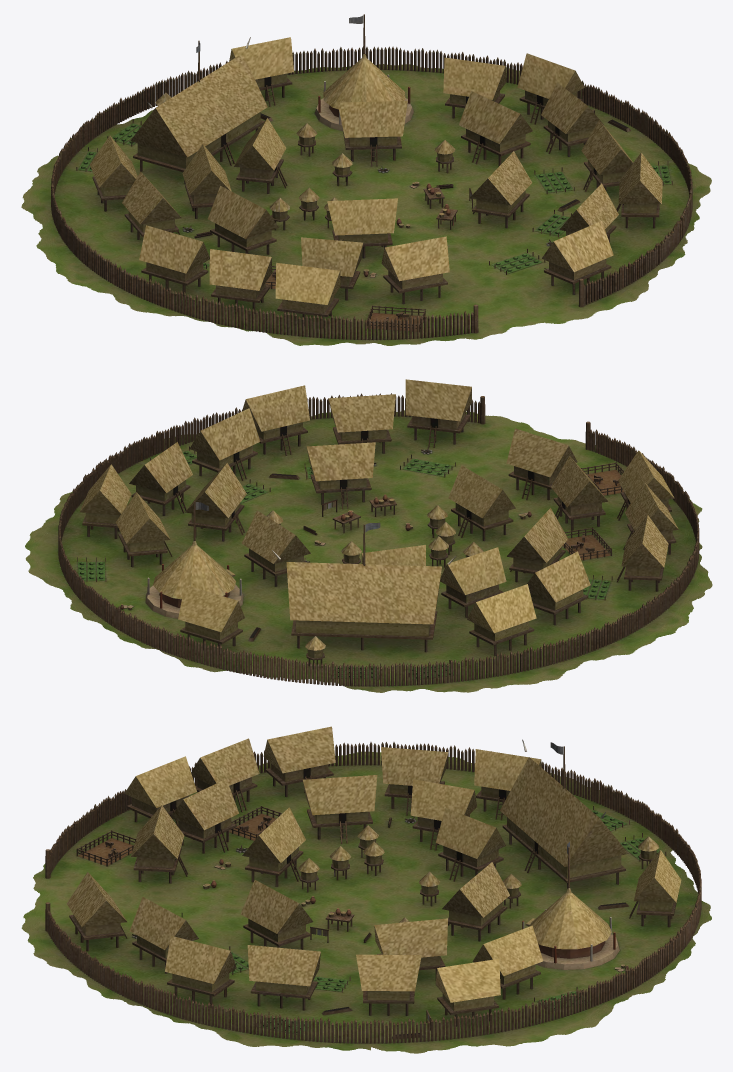
File: stone-town-big-a-monsoon.glb
3 views of the same model, one above another, from view 1: azimuth 30°, elevation 25°; view 2: azimuth 150°, elevation 25°; view 3: azimuth 270°, elevation 25° (orthographic). The views are drawn at different scales.
Visible parts, largest first — view 1: LOD0; view 2: LOD0; view 3: LOD0.
Boxes of the visible parts, box(x1,y1,x2,y2) form: LOD0: box(21, 14, 711, 345); LOD0: box(25, 379, 712, 692); LOD0: box(21, 726, 711, 1053).
Size of what is drawn, in the model's own units: 7.98 by 1.45 by 7.71.
Materials: 3 (3 with a texture image).
